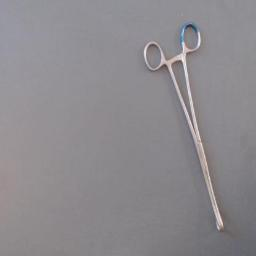Sponge Forceps: (138, 18, 228, 238)
